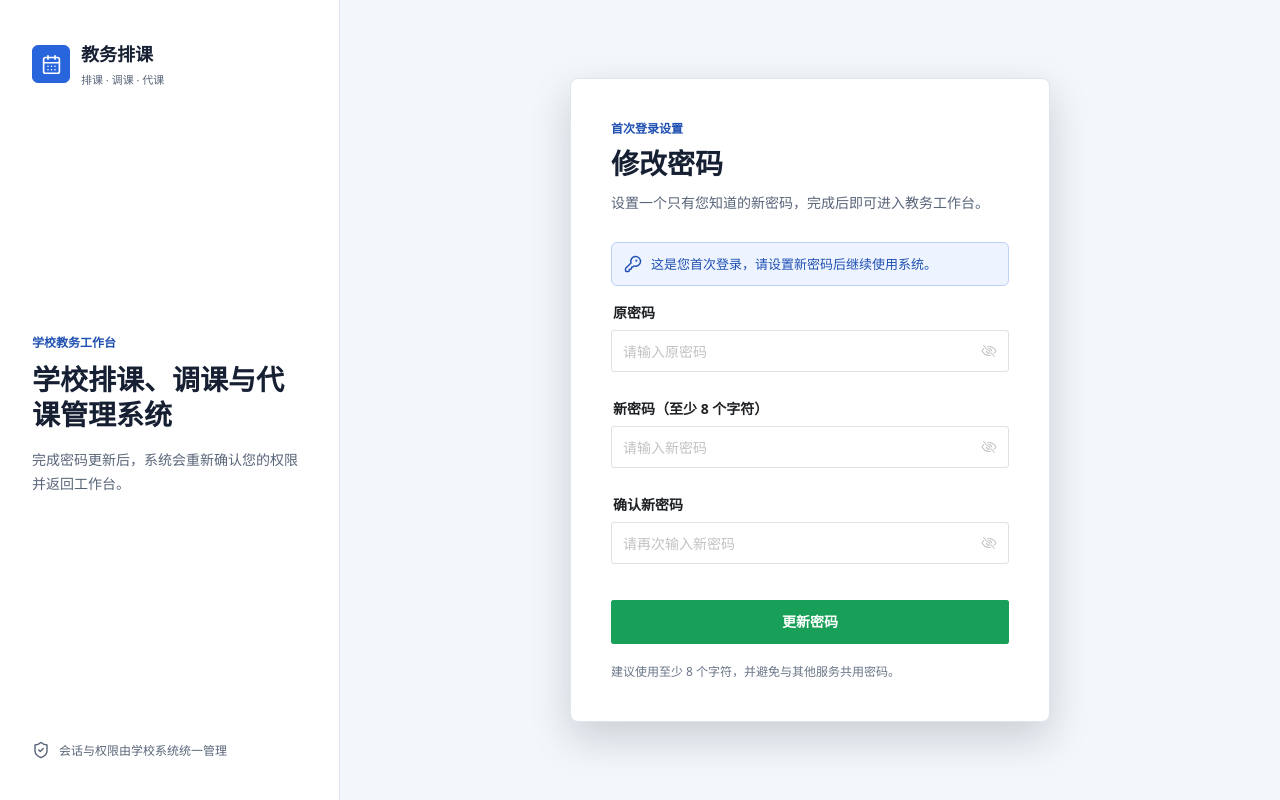
ChangePassword › 显示后端失败原因并防止重复请求
The width and height of the screenshot is (1280, 800).
Step 1. Type "old-password" into the password field with placeholder "请输入原密码" → (800, 347), box x1=623 y1=330 x2=977 y2=364
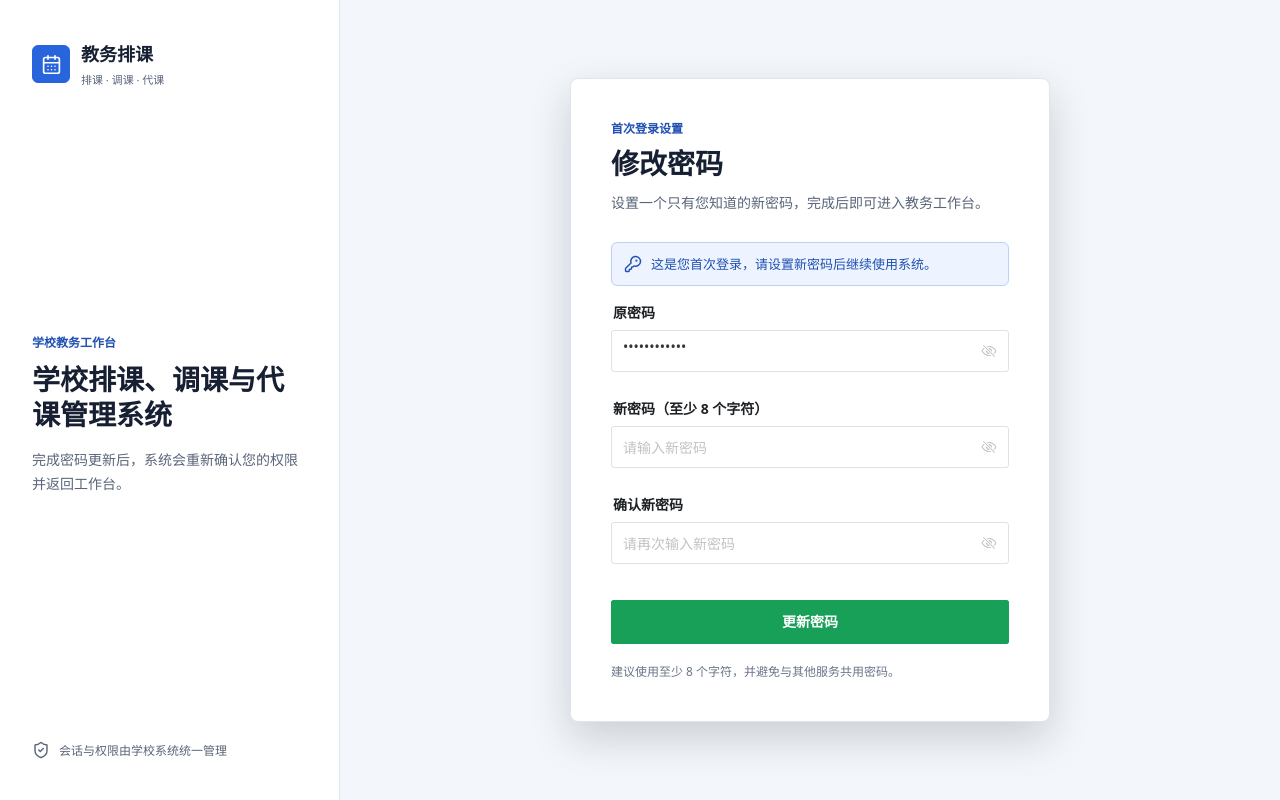
Step 2. Type "long-password" into the password field with placeholder "请输入新密码" → (800, 443), box x1=623 y1=426 x2=977 y2=460
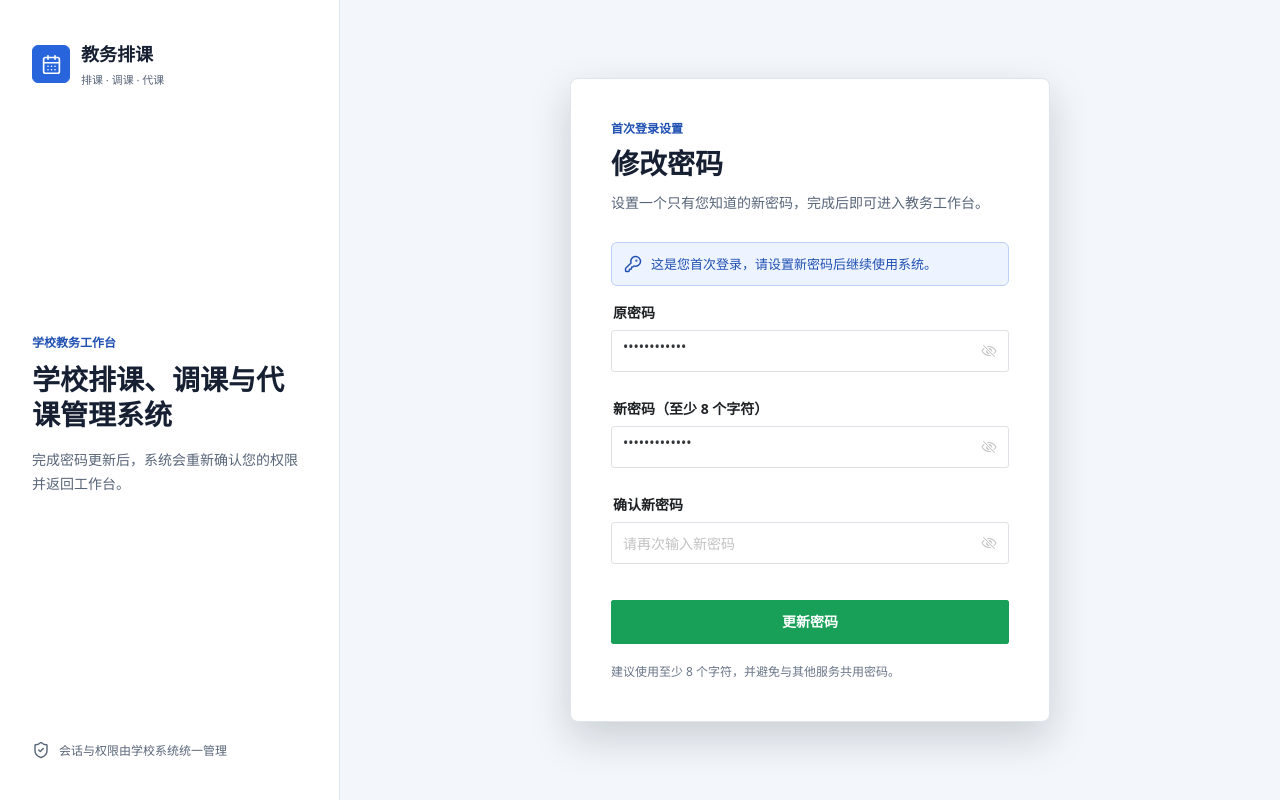
Step 3. Type "long-password" into the password field with placeholder "请再次输入新密码" → (800, 539), box x1=623 y1=522 x2=977 y2=556
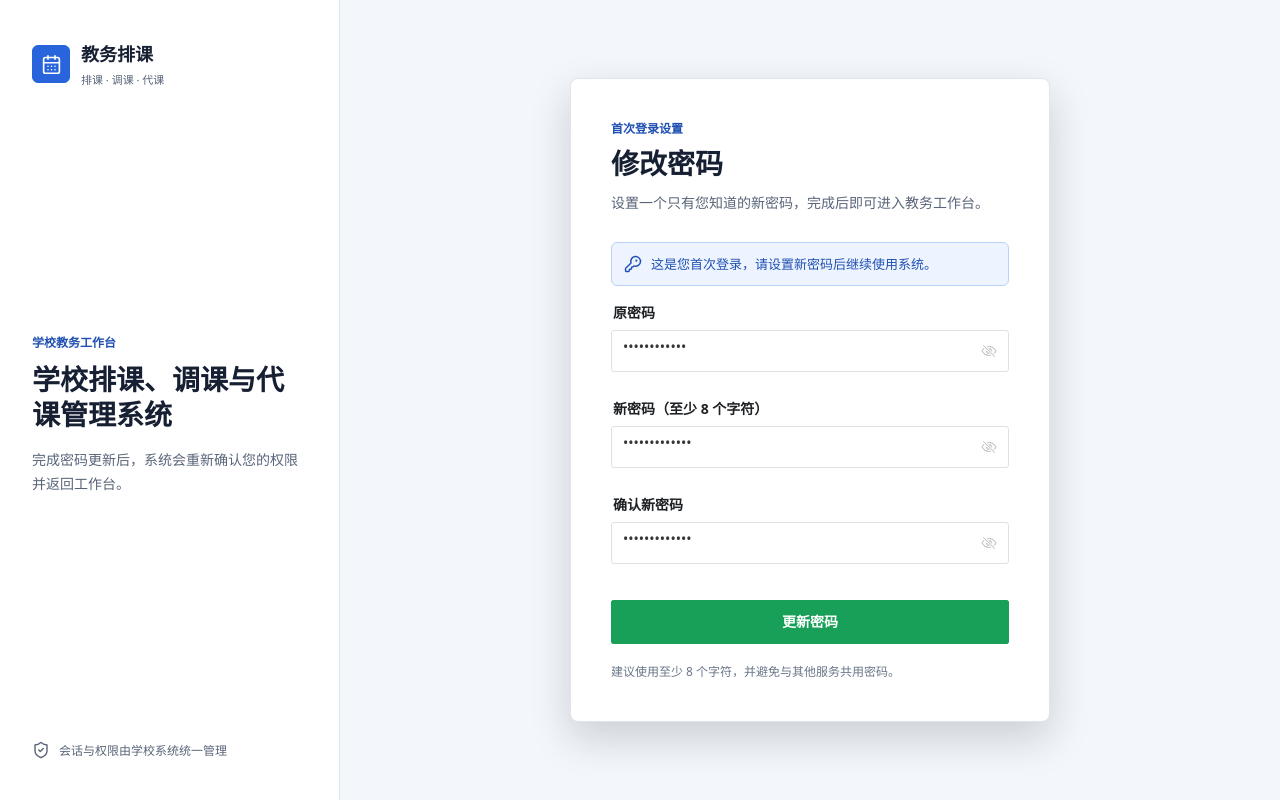
Step 4. Submit the form, box x1=611 y1=304 x2=1009 y2=644
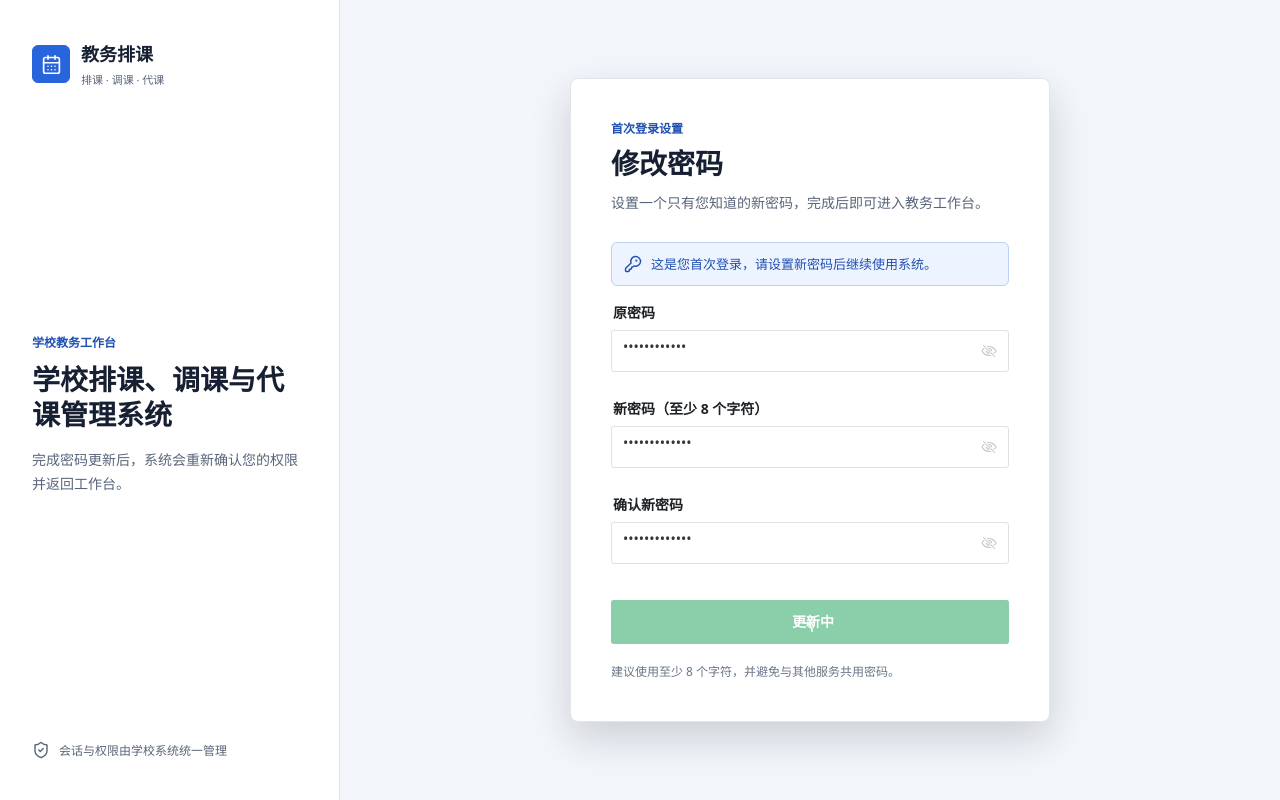
Expected: the button with test id "cp-submit" is disabled, x1=611 y1=600 x2=1009 y2=644
Step 5. Submit the form, box x1=611 y1=304 x2=1009 y2=644
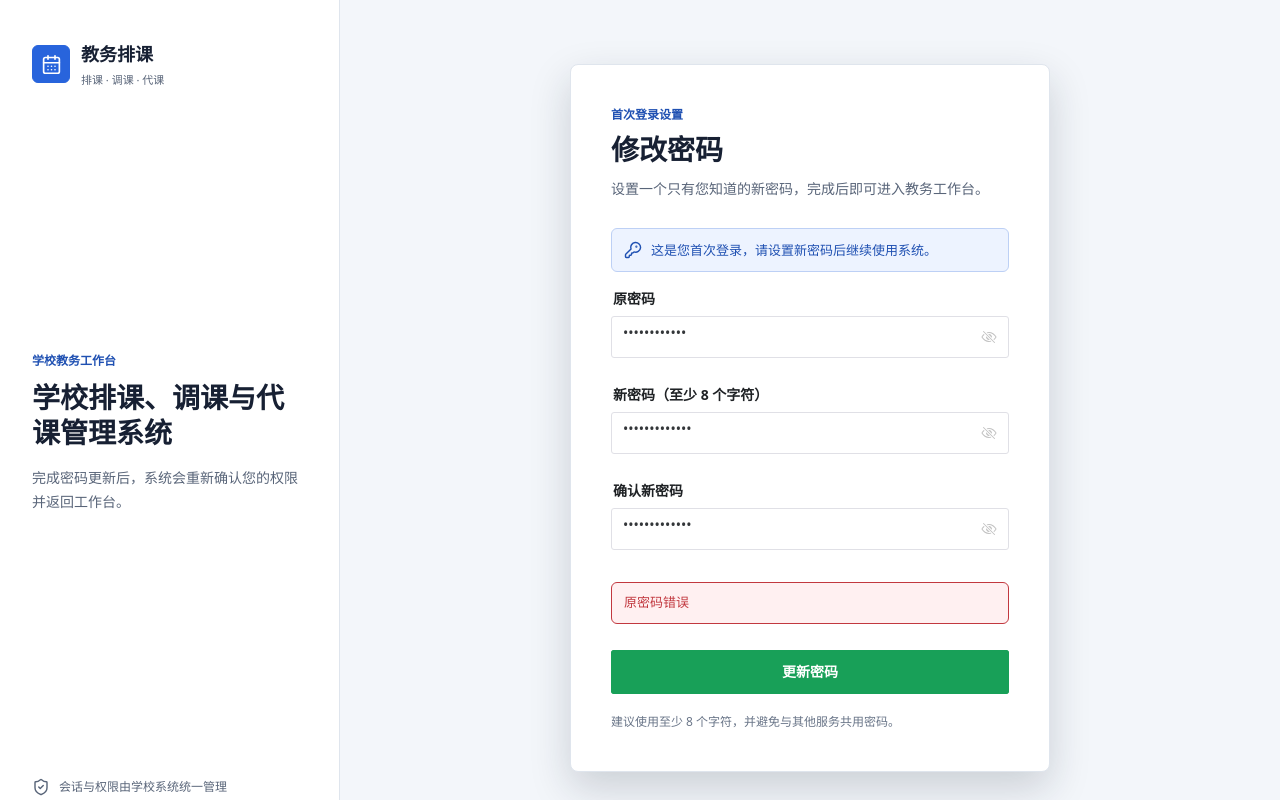
Expected: the message with test id "cp-feedback" reads "原密码错误", x1=624 y1=593 x2=689 y2=611
